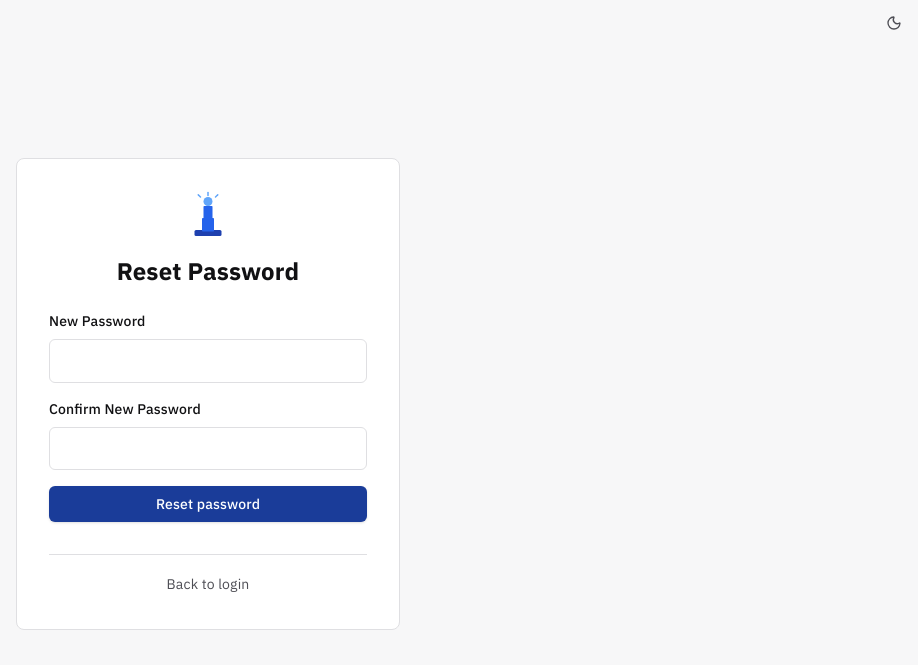
Test: ResetPassword › should display validation error if passwords do not match
The image size is (918, 665).
Step 1. Type "password123" into the password field labelled "New Password" → (208, 361), box [49, 339, 367, 383]
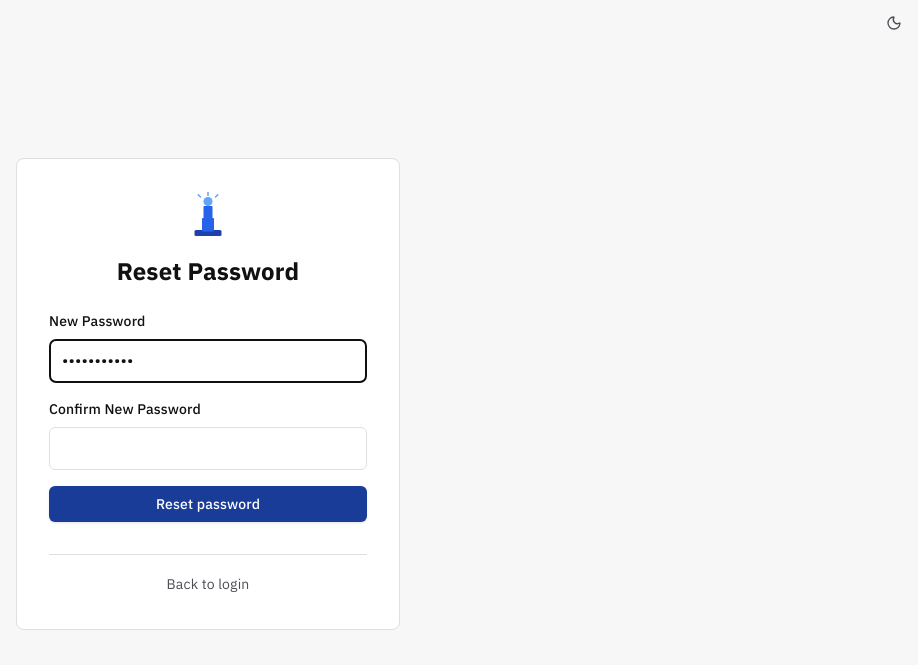
Step 2. Type "different-password" into the password field labelled "Confirm New Password" → (208, 448), box [49, 427, 367, 470]
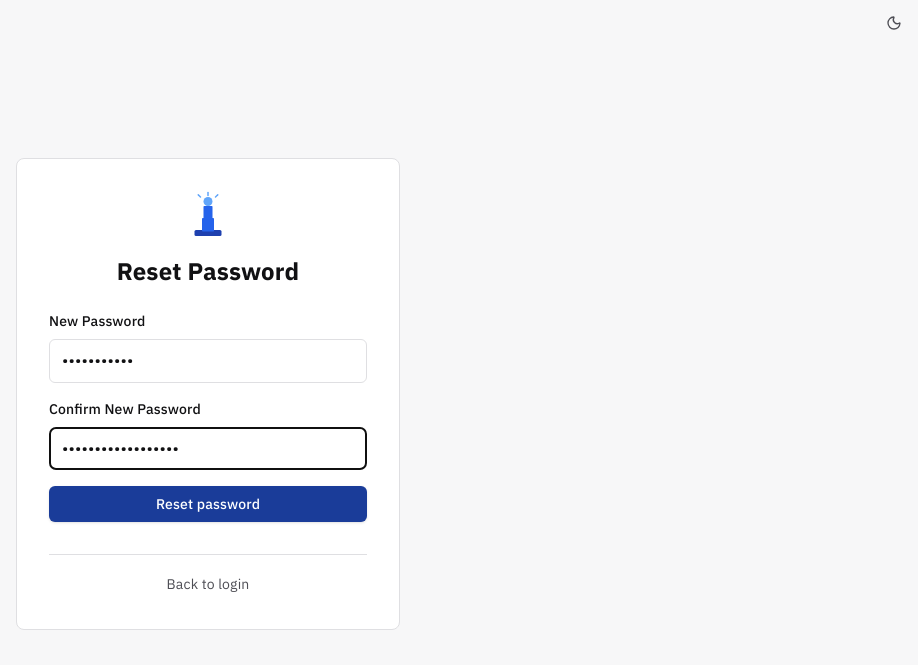
Step 3. Click the button "Reset password" → (208, 504), box [49, 486, 367, 522]
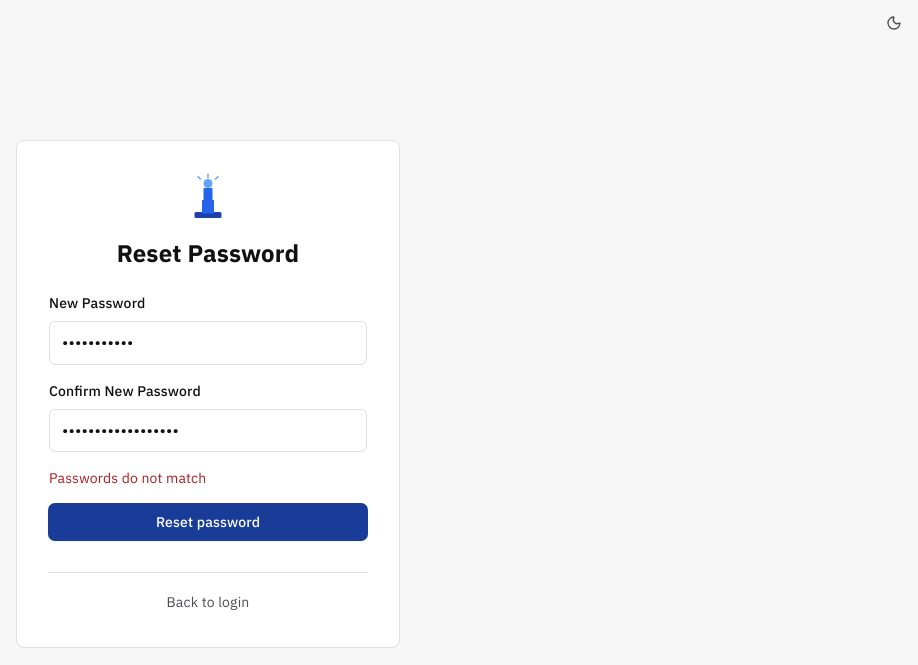
Result: the text "Passwords do not match" is shown at [49, 469, 206, 487]
